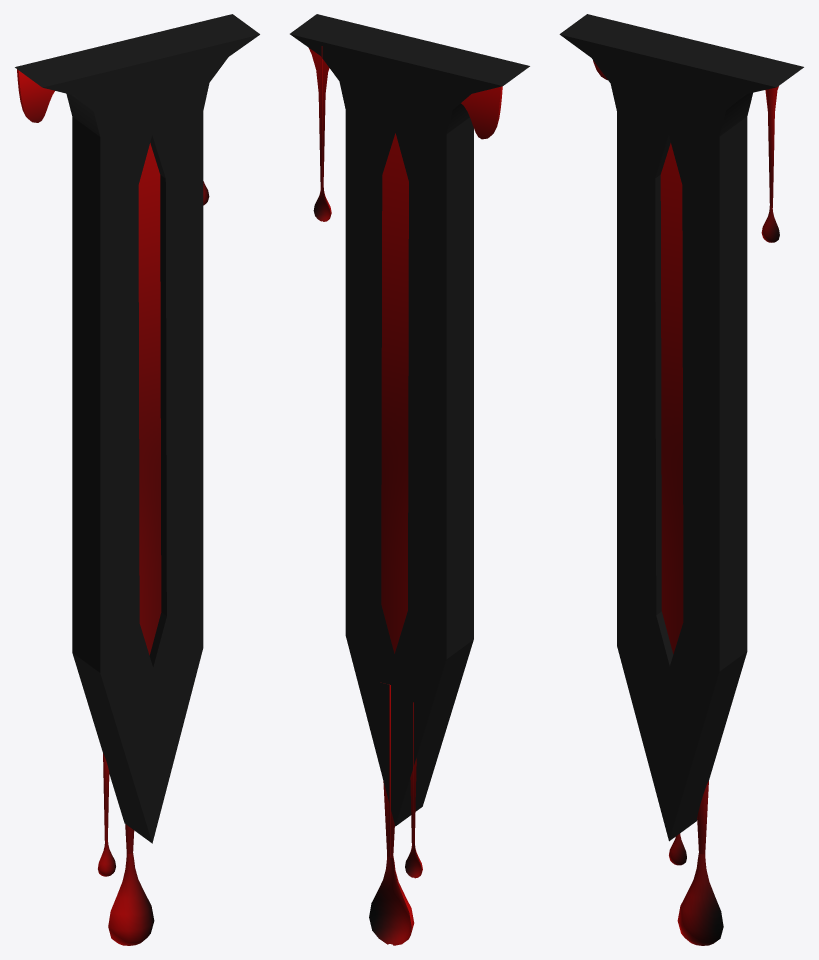
3 views of the same model, side by side, from view 1: azimuth 30°, elevation 25°; view 2: azimuth 150°, elevation 25°; view 3: azimuth 330°, elevation 25° (orthographic). The views are drawn at different scales.
Parts seen in each view (by area): view 1: I, I_Element, Blood_379, Blood_355, Blood_356; view 2: I, I_Element, Blood_379, Blood_355, Blood_360, Blood_356; view 3: I, I_Element, Blood_379, Blood_360.
Boxes of the visible parts, x1,y1,x2,y2 form: I: (15, 14, 259, 843); I_Element: (138, 143, 161, 655); Blood_379: (108, 824, 154, 945); Blood_355: (17, 69, 54, 122); Blood_356: (98, 753, 115, 876); I: (290, 14, 529, 826); I_Element: (381, 133, 408, 653); Blood_379: (369, 684, 414, 945); Blood_355: (461, 86, 502, 139); Blood_360: (308, 46, 331, 221); Blood_356: (405, 702, 422, 878); I: (559, 14, 803, 841); I_Element: (660, 143, 683, 653); Blood_379: (677, 781, 723, 945); Blood_360: (761, 86, 779, 242).
Size of the model in its own units: 22.54 by 89.4 by 5.04.
Materials: 2 (1 with a texture image).
